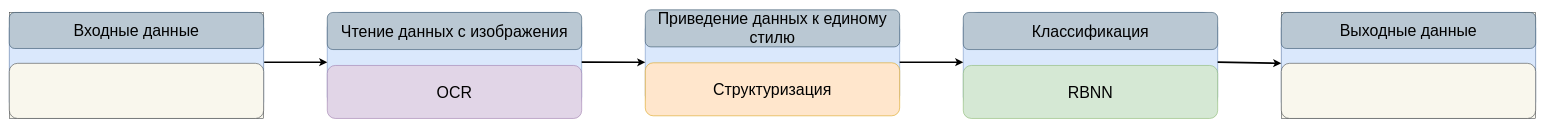
The diagram is 1545 pixels wide and 128 high, and some of its shapes have lost their labels. The centre of each missing label's shape, as x and y in pixels:
"JSON" belongs at [1408,90].
"PNG / JPEG / PDF" belongs at [136,90].
